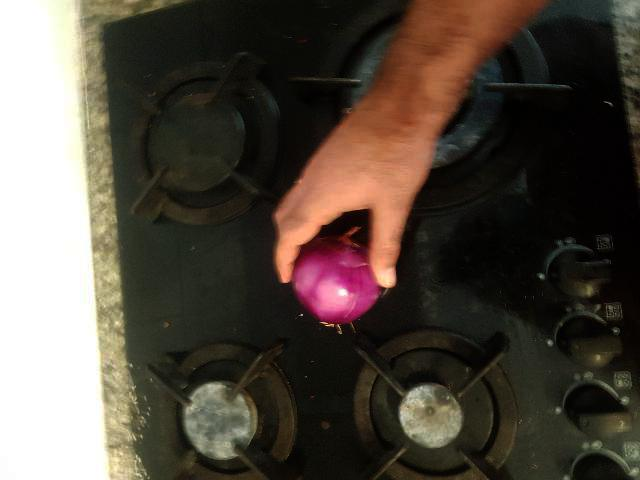onion: (165, 290, 258, 400)
